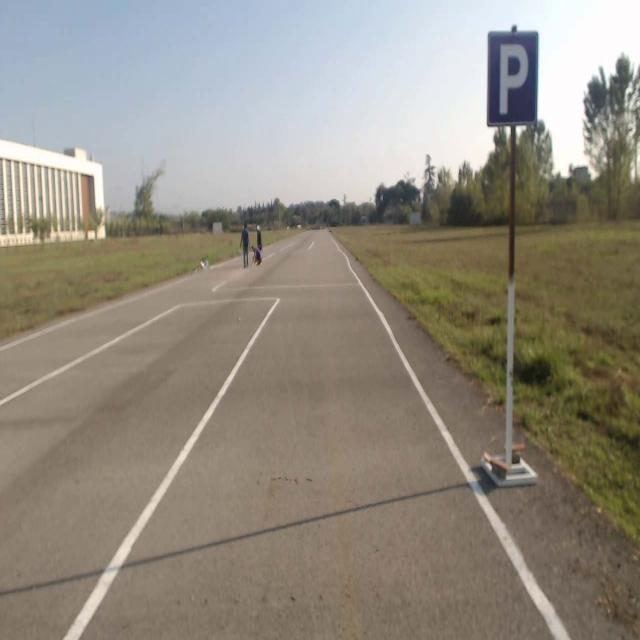park: (487, 30, 537, 124)
